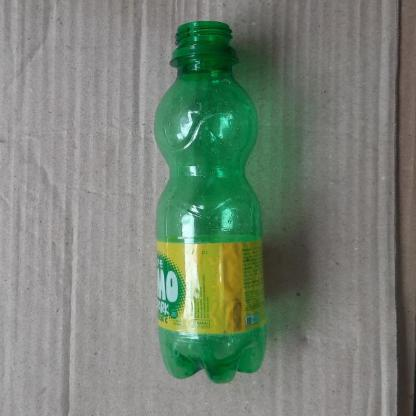Plastic Bottle: (152, 21, 268, 383)
